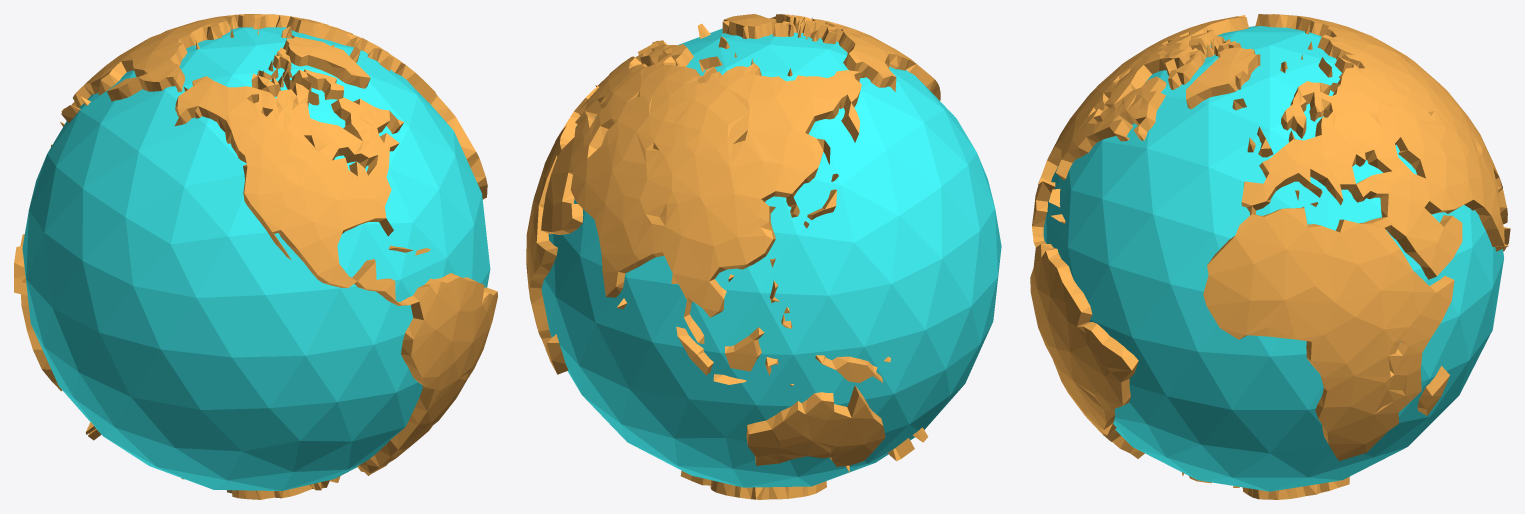
File: lowpoly-earth.fbx
3 views of the same model, side by side, from view 1: azimuth 30°, elevation 25°; view 2: azimuth 150°, elevation 25°; view 3: azimuth 270°, elevation 25° (orthographic).
Parts seen in each view (by area): view 1: Ocean, Earth; view 2: Ocean, Earth; view 3: Earth, Ocean.
Part boxes in pixels (box(x1,y1,x2,y2)): Ocean: box(22, 27, 490, 490); Earth: box(14, 14, 497, 499); Ocean: box(541, 28, 1001, 487); Earth: box(526, 14, 940, 499); Earth: box(1030, 14, 1510, 499); Ocean: box(1043, 26, 1504, 491).
Bounding box in the file's own units: 203 × 207 × 205.
